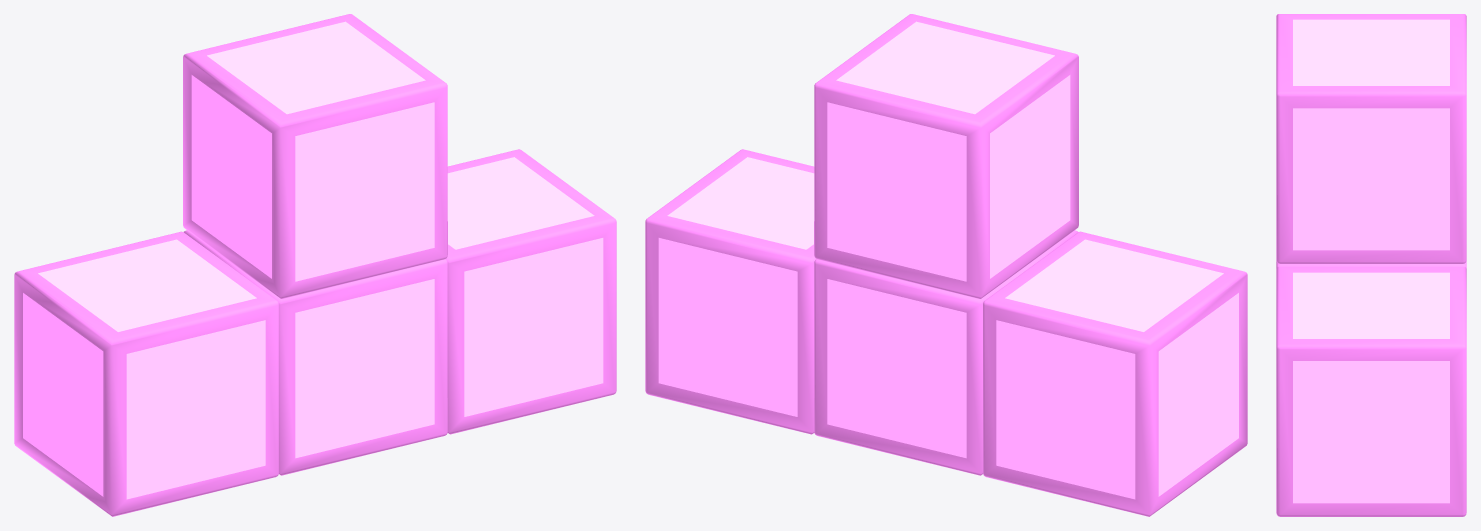
File: T_block.glb
The picture shows the model from 3 angles, left to right: view 1: azimuth 30°, elevation 25°; view 2: azimuth 150°, elevation 25°; view 3: azimuth 270°, elevation 25°; orthographic projection. The views are drawn at different scales.
Parts seen in each view (by area): view 1: FuwaSuisei_Tetris02_FuwaSuiseiItems_0; view 2: FuwaSuisei_Tetris02_FuwaSuiseiItems_0; view 3: FuwaSuisei_Tetris02_FuwaSuiseiItems_0.
Boxes of the visible parts, bbox=[...] form: FuwaSuisei_Tetris02_FuwaSuiseiItems_0: bbox=[14, 14, 616, 516]; FuwaSuisei_Tetris02_FuwaSuiseiItems_0: bbox=[645, 14, 1247, 516]; FuwaSuisei_Tetris02_FuwaSuiseiItems_0: bbox=[1276, 14, 1466, 516].
Bounding box in the file's own units: 1.25 × 0.8311 × 0.4155.
1 material, 1 textured.
